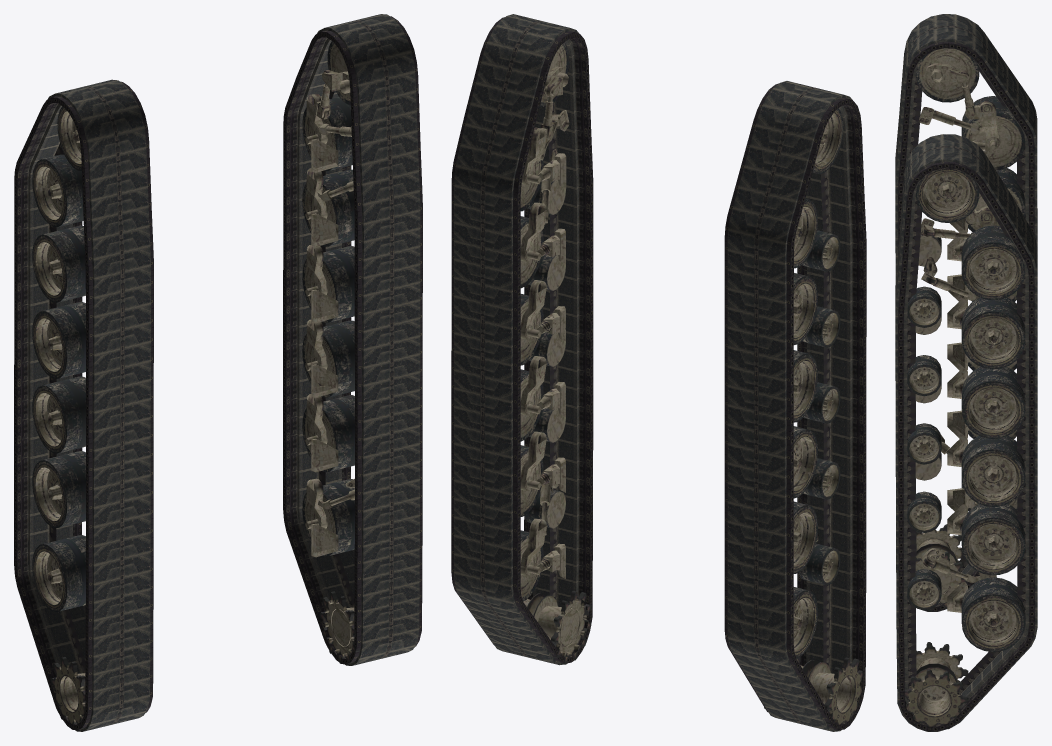
File: Chassis.glb
3 views of the same model, side by side, from view 1: azimuth 30°, elevation 25°; view 2: azimuth 150°, elevation 25°; view 3: azimuth 270°, elevation 25° (orthographic). The views are drawn at different scales.
Parts seen in each view (by area): view 1: set_0_group_0, set_1_group_0, set_3_group_0, set_2_group_0; view 2: set_0_group_0, set_1_group_0, set_3_group_0, set_2_group_0; view 3: set_3_group_0, set_1_group_0, set_2_group_0, set_0_group_0.
Part boxes in pixels (x1,y1,x2,y2): set_0_group_0: [14, 79, 153, 731]; set_1_group_0: [283, 14, 422, 665]; set_3_group_0: [302, 41, 420, 663]; set_2_group_0: [32, 106, 146, 728]; set_0_group_0: [724, 81, 866, 731]; set_1_group_0: [451, 14, 593, 665]; set_3_group_0: [491, 42, 591, 664]; set_2_group_0: [764, 108, 862, 731]; set_3_group_0: [904, 168, 1025, 731]; set_1_group_0: [895, 134, 1037, 731]; set_2_group_0: [915, 48, 1025, 611]; set_0_group_0: [895, 14, 1037, 611].
Bounding box in the file's own units: 3.64 × 6.52 × 1.47.
4 materials, 4 textured.
